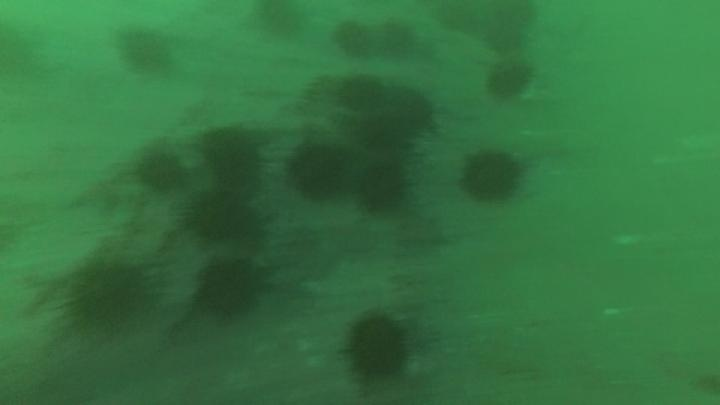echinus: (64, 258, 151, 332), (343, 312, 413, 381), (185, 188, 259, 245), (196, 257, 263, 319), (200, 127, 265, 188), (459, 148, 524, 204), (287, 142, 349, 200), (352, 101, 413, 152), (117, 25, 175, 75), (356, 159, 409, 213), (377, 84, 435, 133), (135, 149, 186, 193), (253, 2, 308, 42), (485, 58, 534, 101), (474, 21, 523, 64), (337, 74, 387, 114), (331, 19, 375, 61), (376, 19, 418, 61), (494, 1, 536, 31)
starfish: (66, 166, 135, 218)
